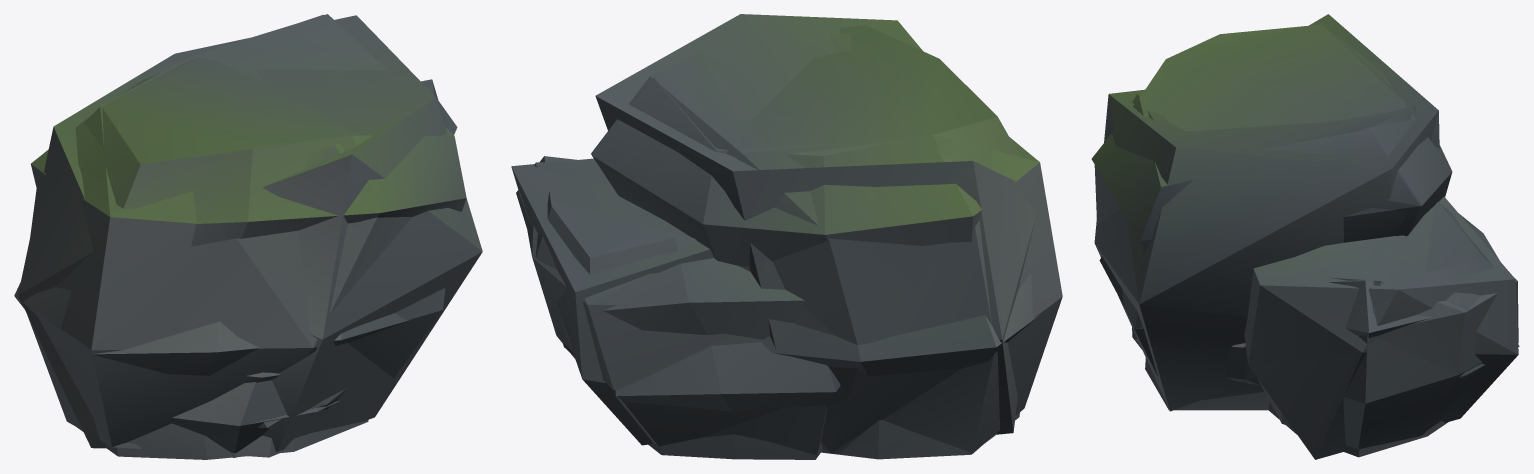
Rendered from BoulderB.glb.
The picture shows the model from 3 angles, left to right: view 1: azimuth 30°, elevation 25°; view 2: azimuth 150°, elevation 25°; view 3: azimuth 270°, elevation 25°; orthographic projection. The views are drawn at different scales.
Parts seen in each view (by area): view 1: BoulderB_L1, BoulderB_L2, BoulderB_L0; view 2: BoulderB_L0, BoulderB_L1, BoulderB_L2; view 3: BoulderB_L2, BoulderB_L0, BoulderB_L1.
Boxes of the visible parts, x1,y1,x2,y2 form: BoulderB_L1: (27,14,445,457); BoulderB_L2: (18,15,482,451); BoulderB_L0: (14,14,466,459); BoulderB_L0: (516,25,1039,459); BoulderB_L1: (527,33,1062,457); BoulderB_L2: (511,14,1036,445); BoulderB_L2: (1094,14,1518,459); BoulderB_L0: (1091,24,1519,457); BoulderB_L1: (1094,22,1518,449).
Size of the model in its own units: 1.8 by 1.21 by 1.5.
